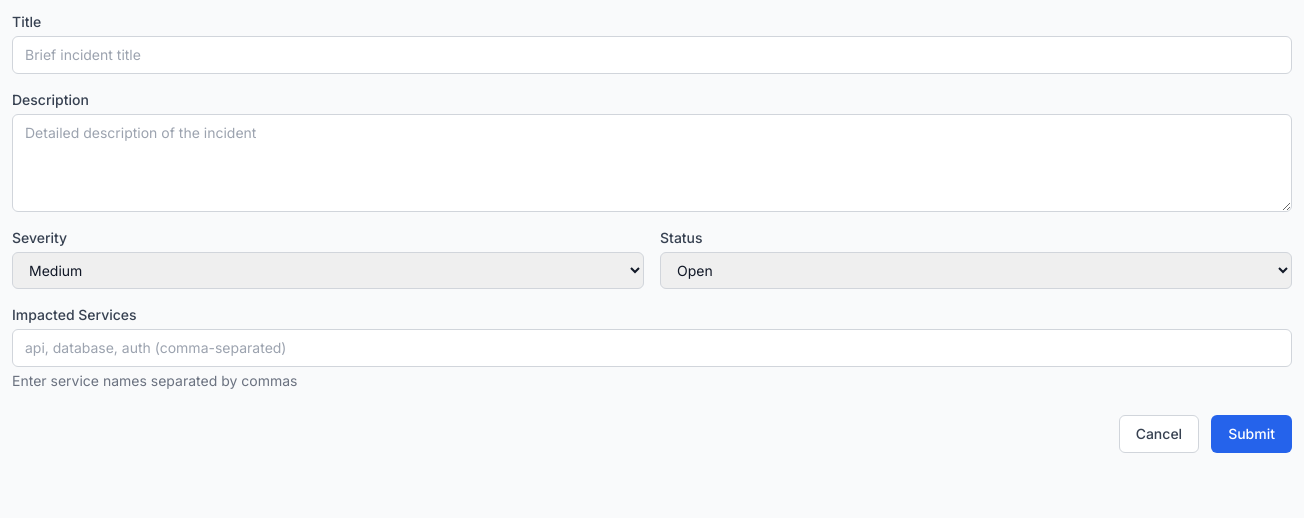
IncidentForm › shows validation errors on empty submit
Step 1. Clear the field labelled "Title" → (652, 55), box [12, 36, 1292, 74]
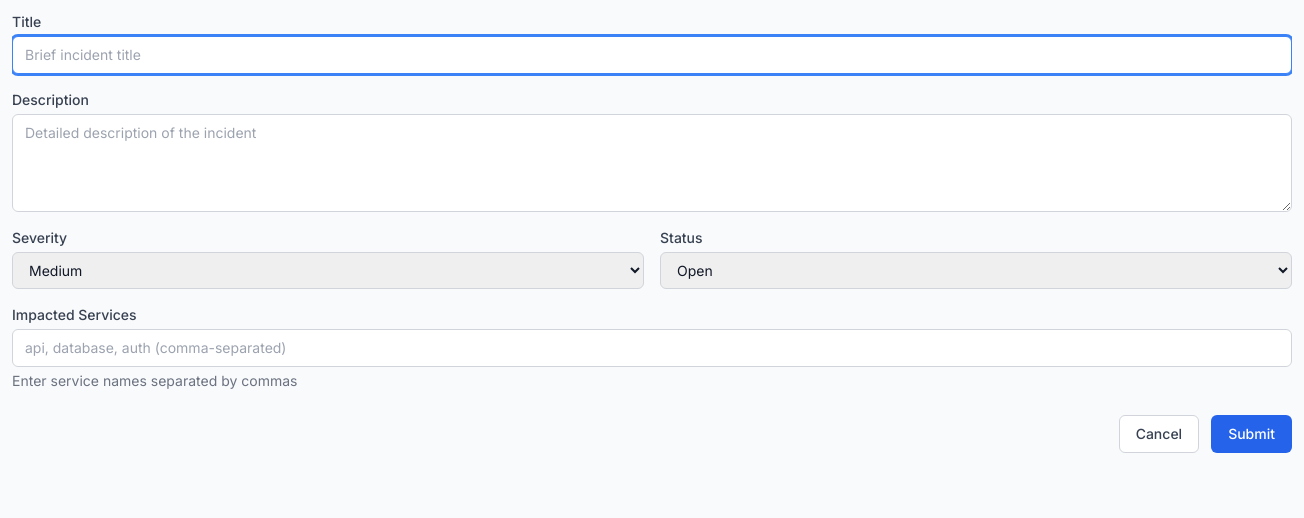
Step 2. Click the button "Submit" → (1252, 434), box [1211, 415, 1292, 453]
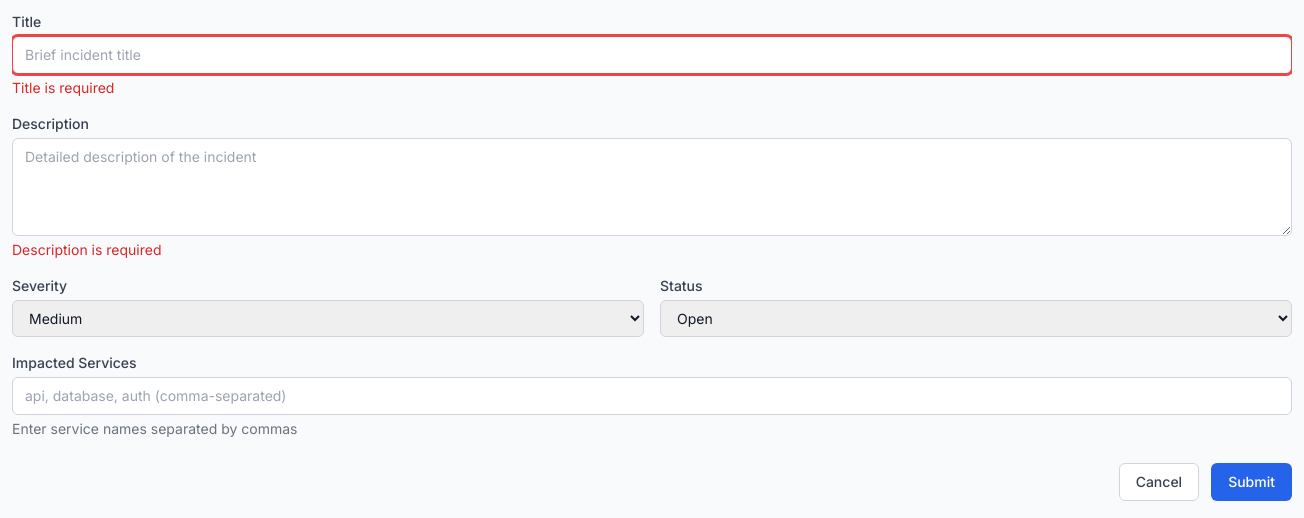
Check: the text "Title is required" is shown, box [12, 79, 114, 96]
